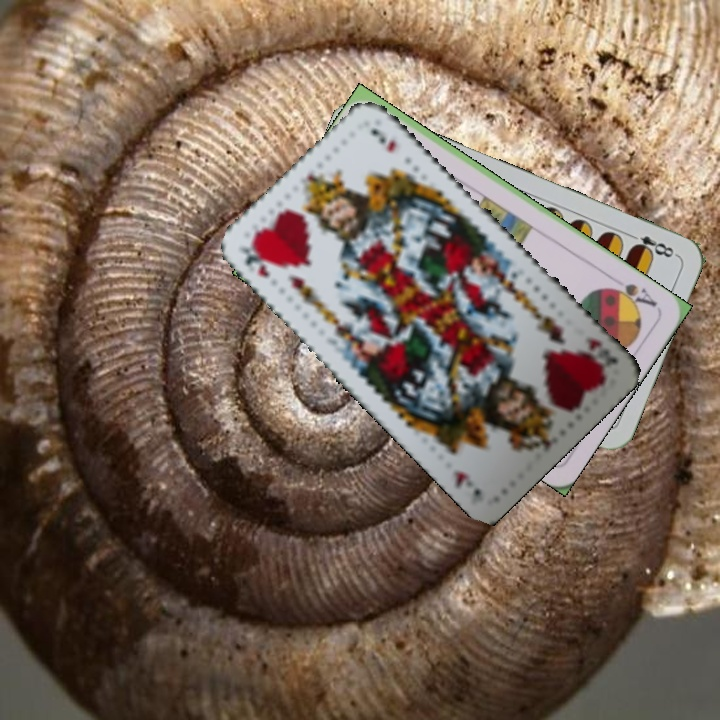E8: (623, 229, 680, 261)
HK: (576, 333, 621, 377), (238, 242, 272, 280)
SA: (603, 279, 660, 312)
